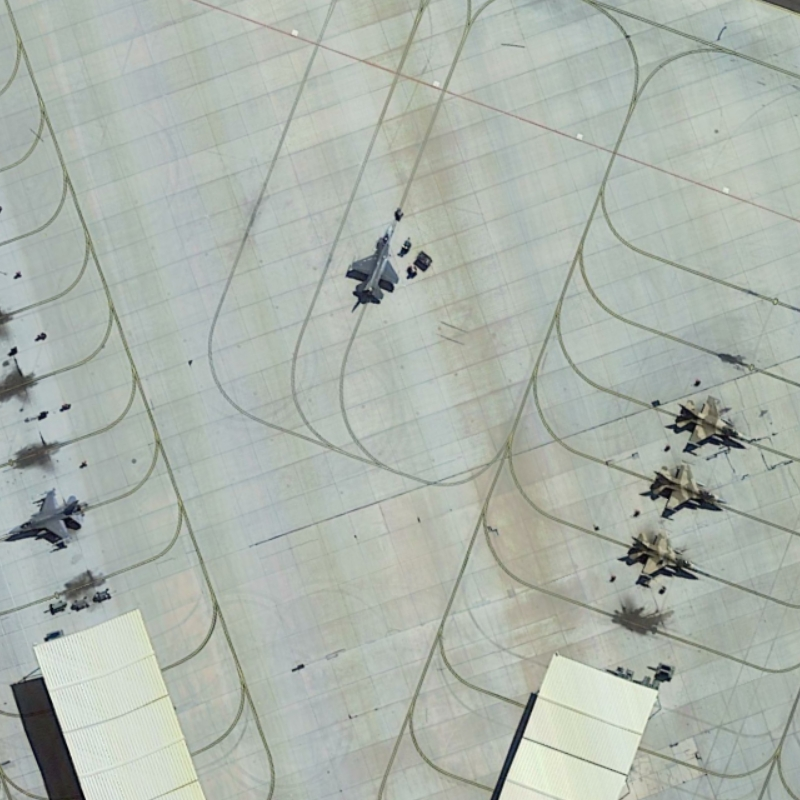A5: (667, 384, 757, 457), (2, 483, 90, 551), (343, 216, 407, 306), (617, 525, 710, 584), (646, 458, 729, 519)
